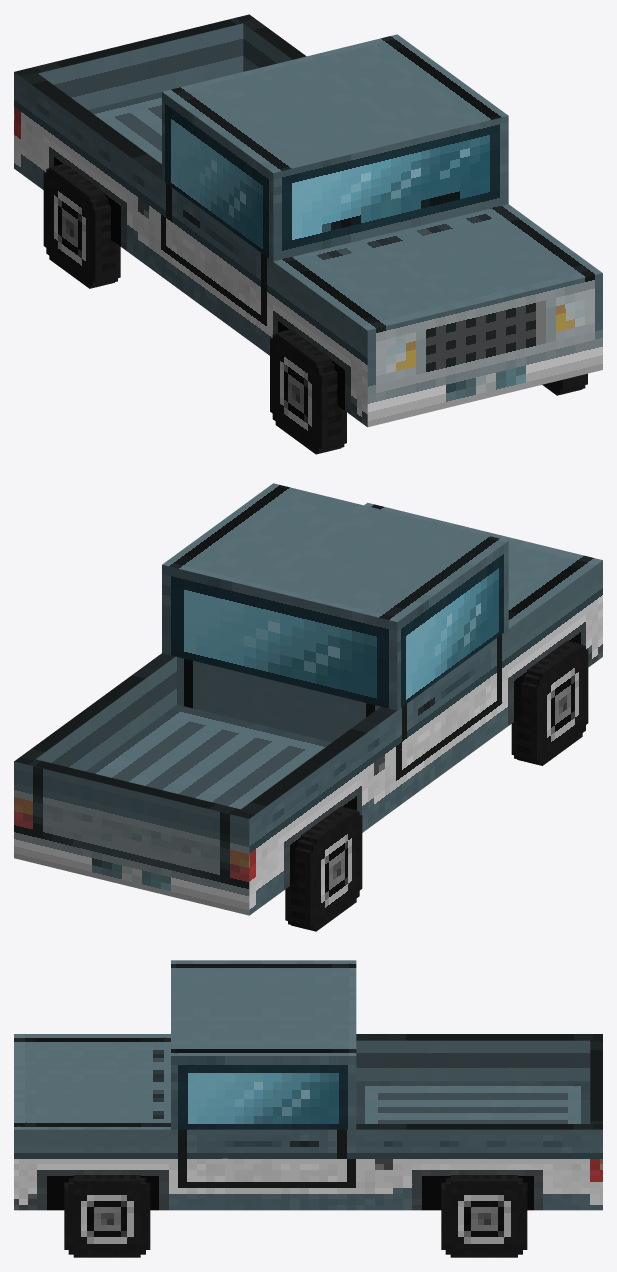
File: BG_PICK UP TRUCK.fbx
The picture shows the model from 3 angles, top to bottom: view 1: azimuth 30°, elevation 25°; view 2: azimuth 150°, elevation 25°; view 3: azimuth 270°, elevation 25°; orthographic projection. The views are drawn at different scales.
Visible parts, largest first — view 1: BG_PICK_UP_TRUCK, R_R__6_, R_R__5_, R_R__7_; view 2: BG_PICK_UP_TRUCK, R_R__6_, R_R__5_; view 3: BG_PICK_UP_TRUCK, R_R__7_, R_R__8_.
Boxes of the visible parts, x1=… form: BG_PICK_UP_TRUCK: x1=14, y1=14, x2=602, y2=427; R_R__6_: x1=43, y1=163, x2=120, y2=288; R_R__5_: x1=270, y1=329, x2=346, y2=454; R_R__7_: x1=542, y1=373, x2=587, y2=395; BG_PICK_UP_TRUCK: x1=14, y1=483, x2=602, y2=915; R_R__6_: x1=285, y1=806, x2=362, y2=931; R_R__5_: x1=511, y1=640, x2=588, y2=765; BG_PICK_UP_TRUCK: x1=14, y1=960, x2=602, y2=1210; R_R__7_: x1=64, y1=1175, x2=150, y2=1257; R_R__8_: x1=441, y1=1175, x2=527, y2=1257.
Bounding box in the file's own units: 172 × 145 × 394.
Materials: 2 (2 with a texture image).
